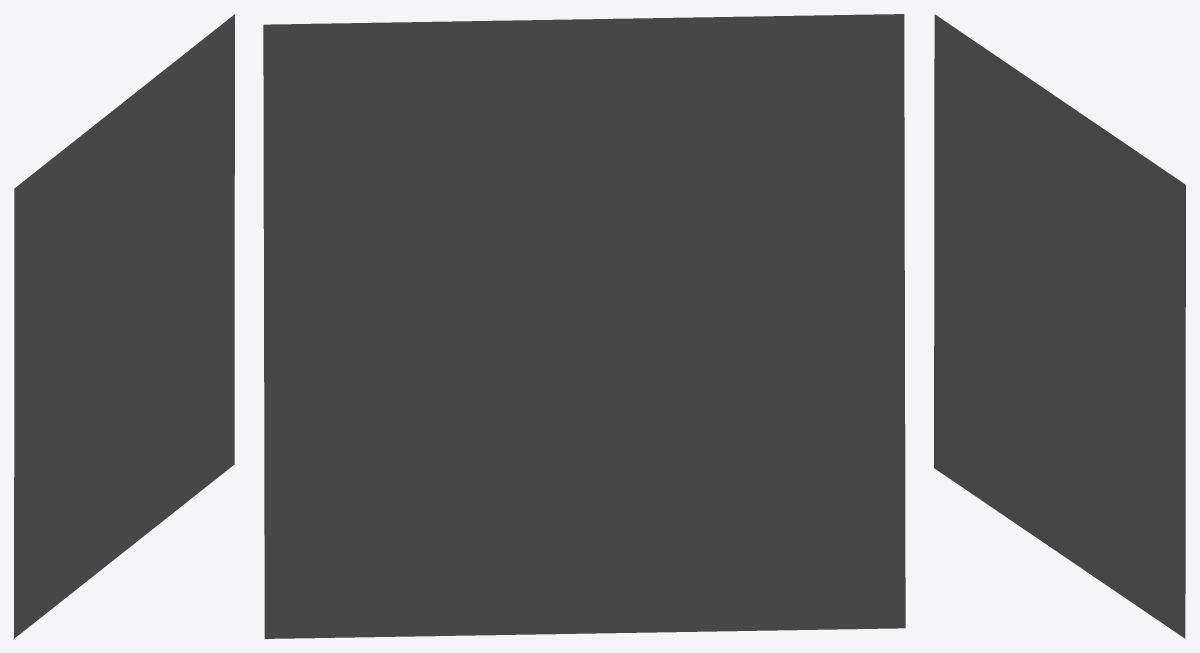
Rendered from secondary_171.glb.
3 renders of one model, left to right at view 1: azimuth 30°, elevation 25°; view 2: azimuth 150°, elevation 25°; view 3: azimuth 270°, elevation 25°, orthographic. The views are drawn at different scales.
Parts seen in each view (by area): view 1: Object; view 2: Object; view 3: Object.
Part boxes in pixels (x1=…): Object: x1=14, y1=14, x2=234, y2=638; Object: x1=263, y1=14, x2=905, y2=638; Object: x1=934, y1=14, x2=1185, y2=638.
Bounding box in the file's own units: 2.9 × 3.61 × 1.81.
Materials: 1 (1 with a texture image).
